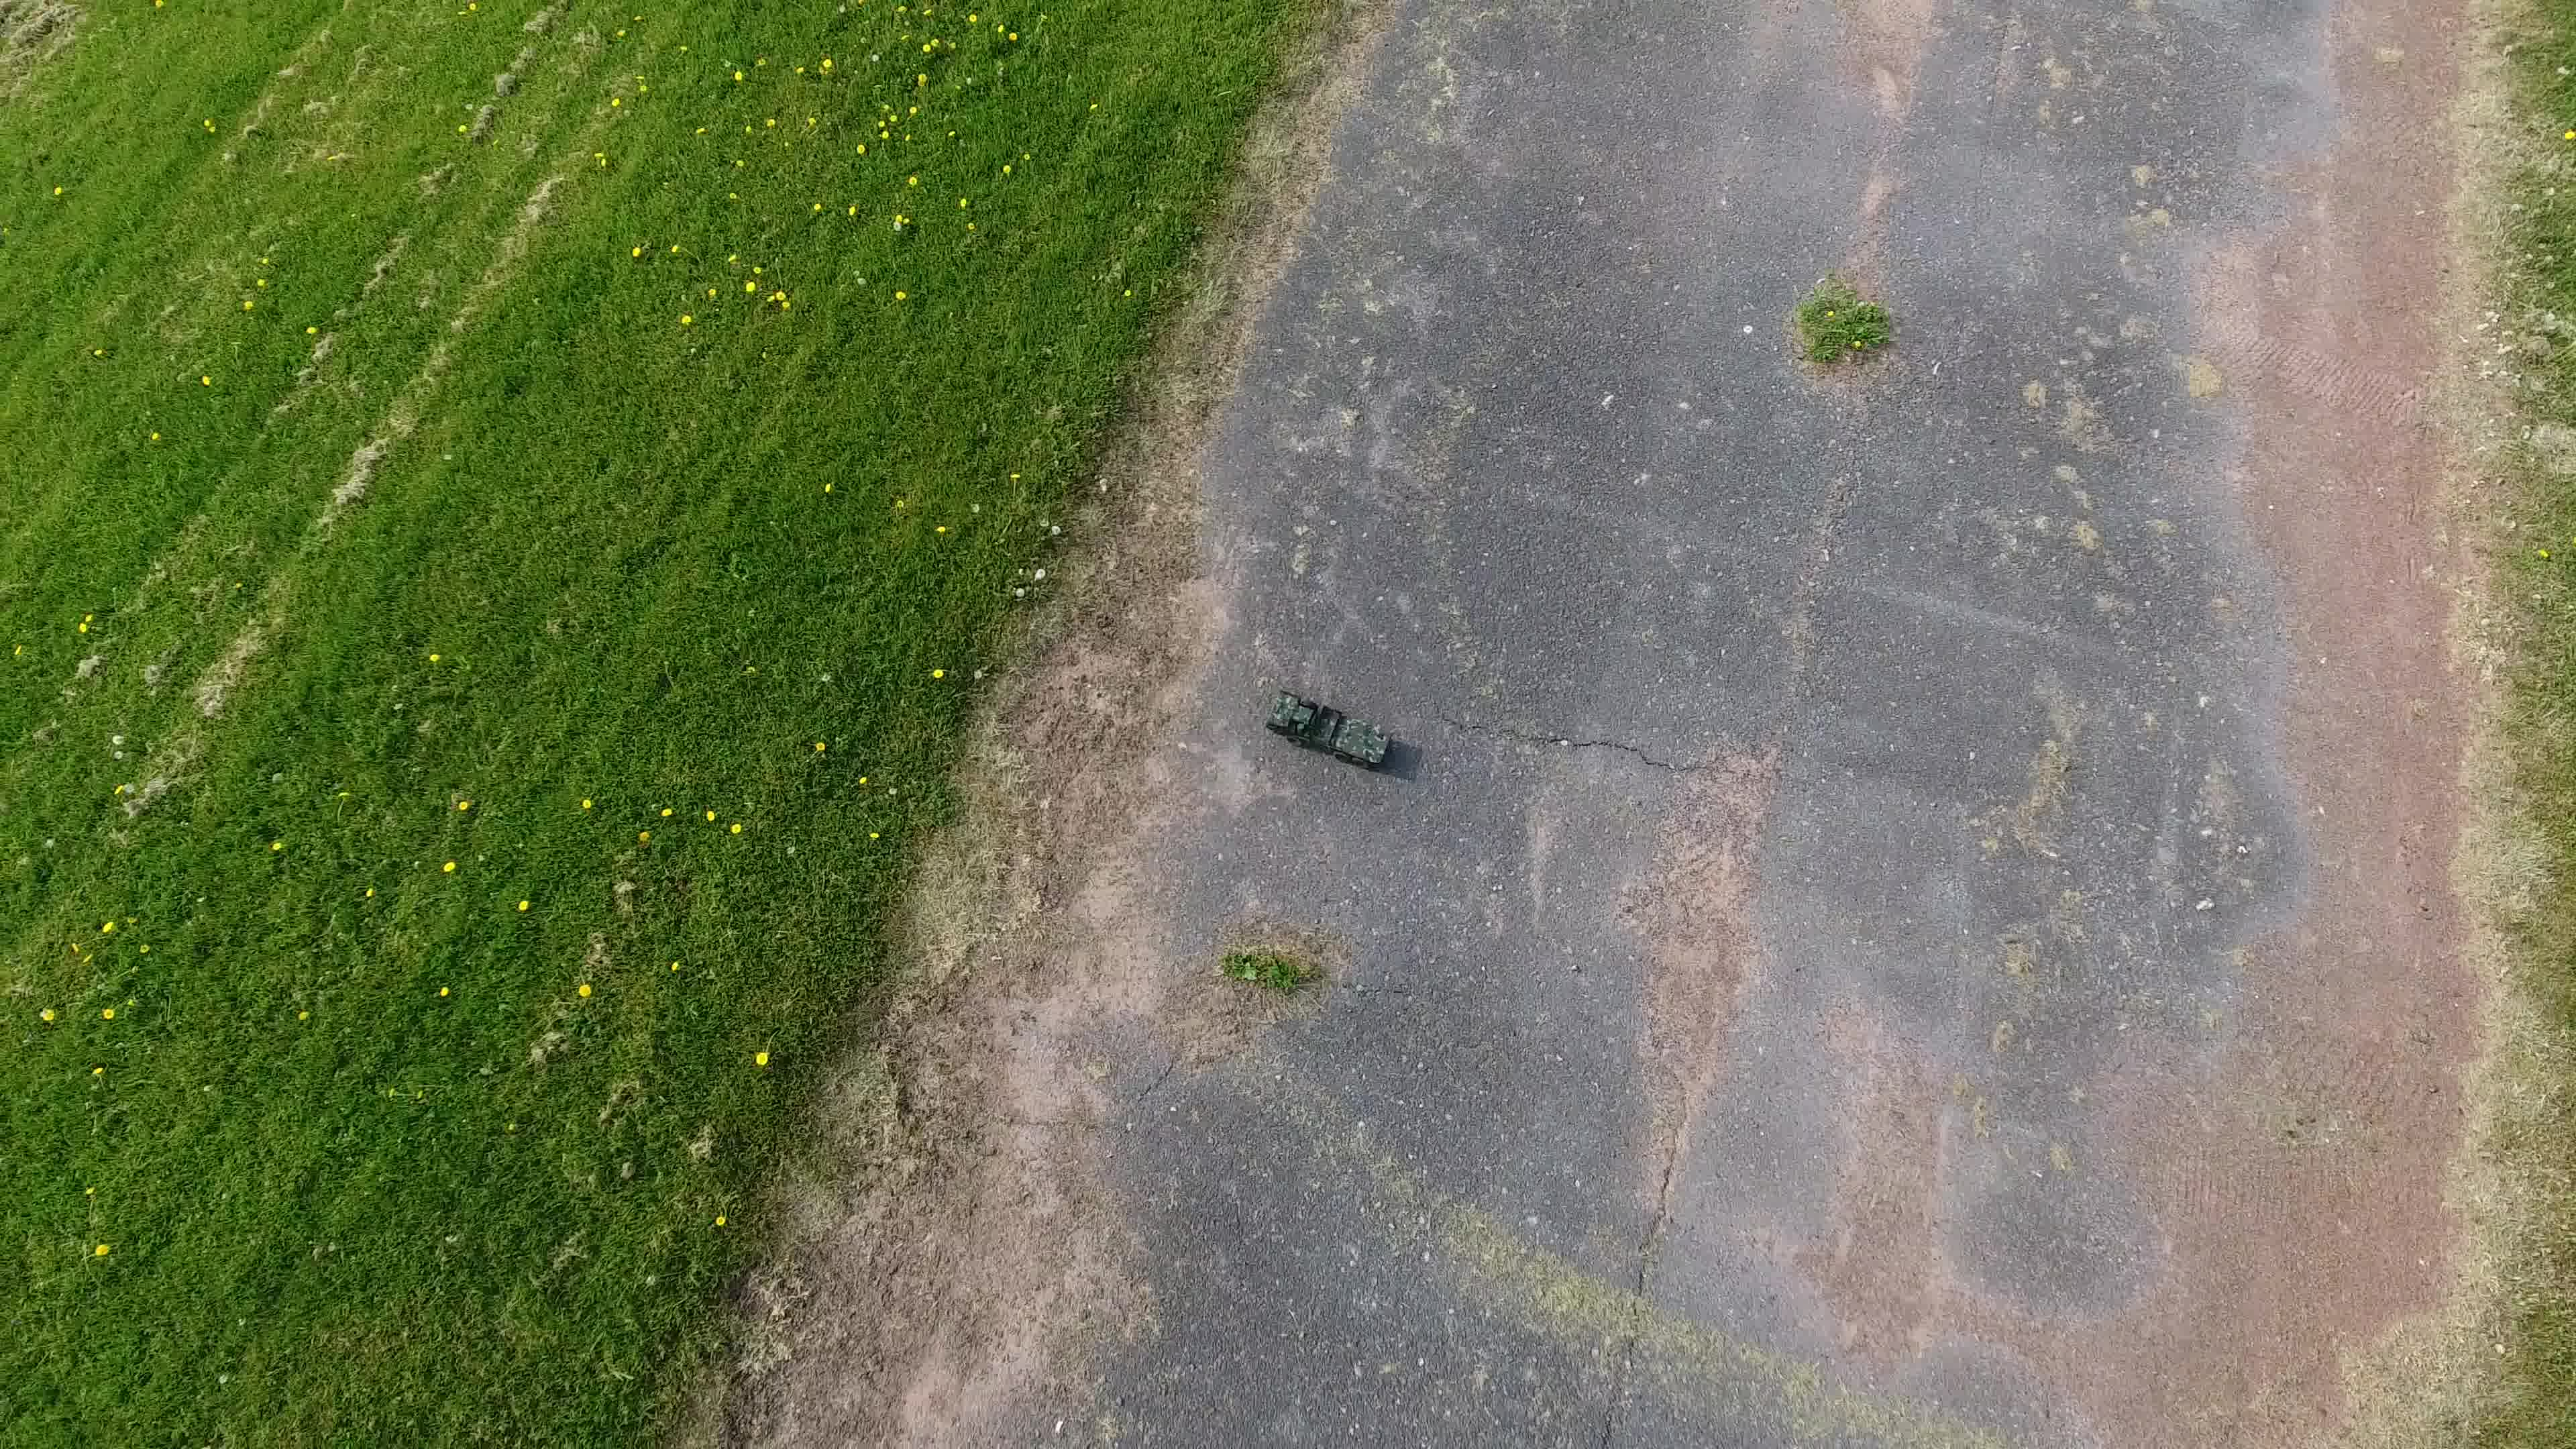transporter9_camo: (1249, 686, 1394, 777)
